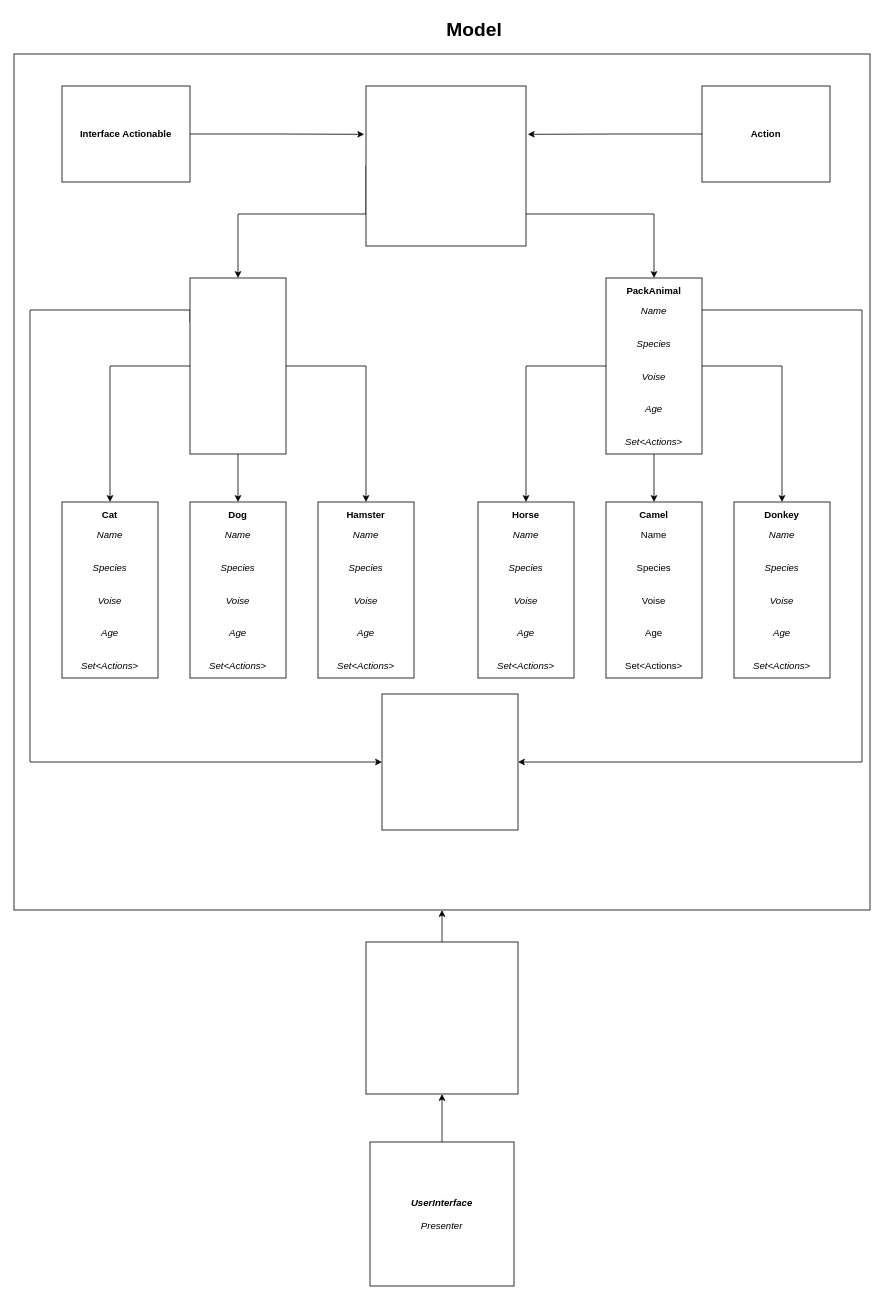
This 884x1300 diagram has some shape labels left out. Here are the shapes that lost their labels. From the top down, the centre of each, then its label:
point 445,165: Abstract class Animal Name Species Voise Age Set<Actions>
point 237,365: Pet Name Species Voise Age Set<Actions>
point 449,761: AnimalShelter List <PackAnimal>
point 441,1017: Presenter Model
